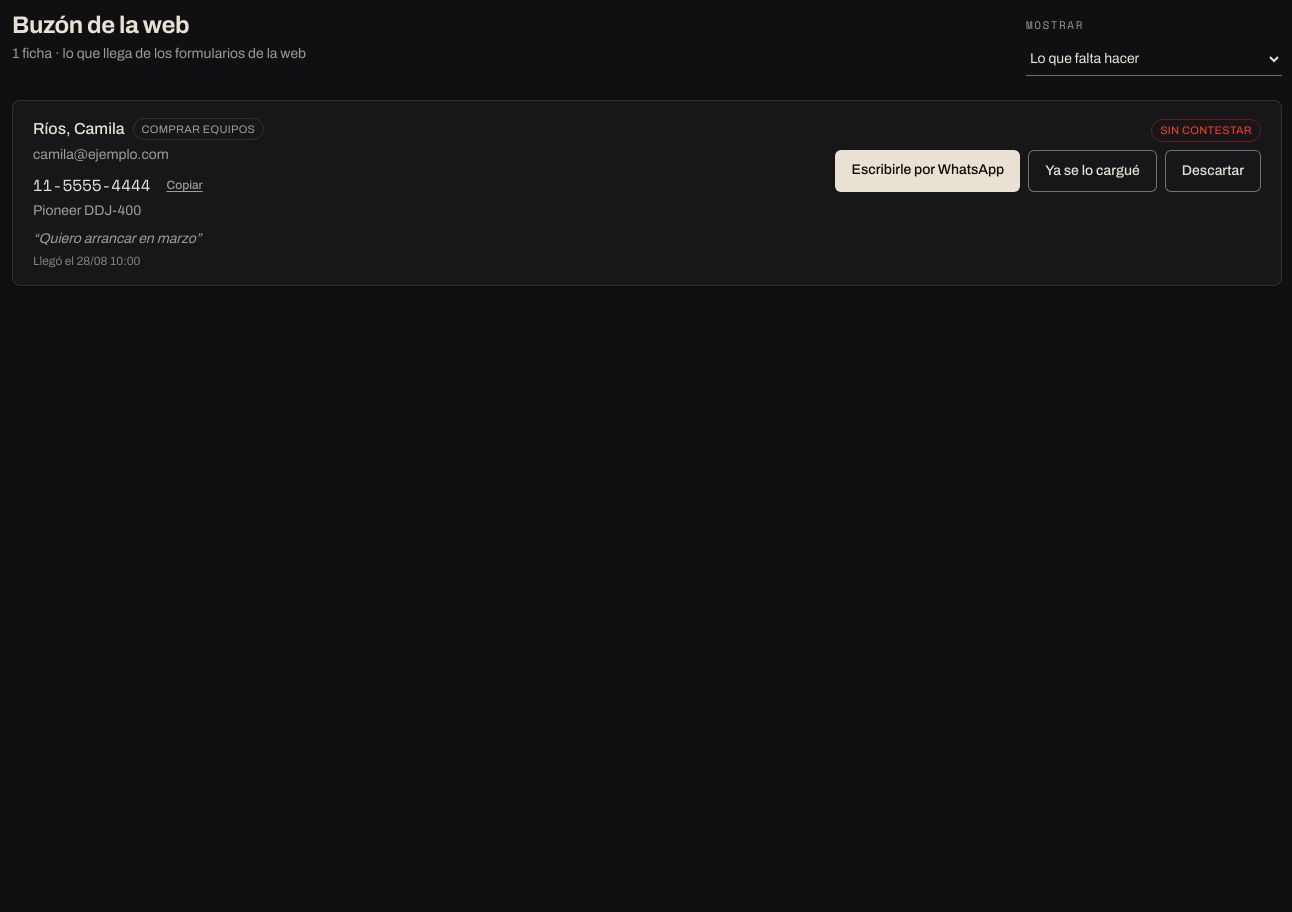
Test: convertir la ficha en cuenta › cuando la persona ya tenía cuenta lo dice, en vez de dejar el hueco
The image size is (1292, 912).
Click the button "Ya se lo cargué": (1092, 170) [1028,150,1157,192]
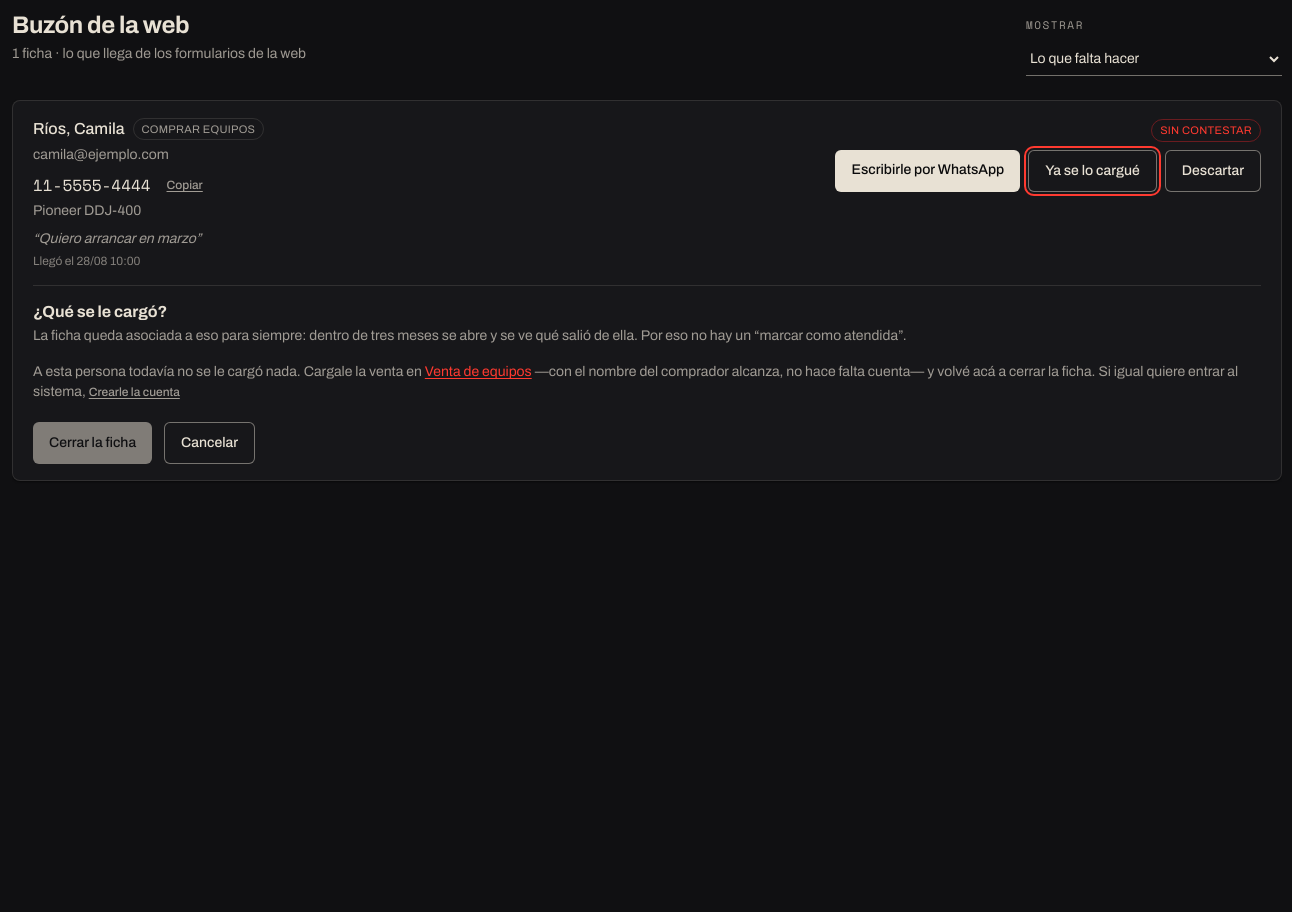
Click the button "Crearle la cuenta": (134, 392) [89,384,180,400]
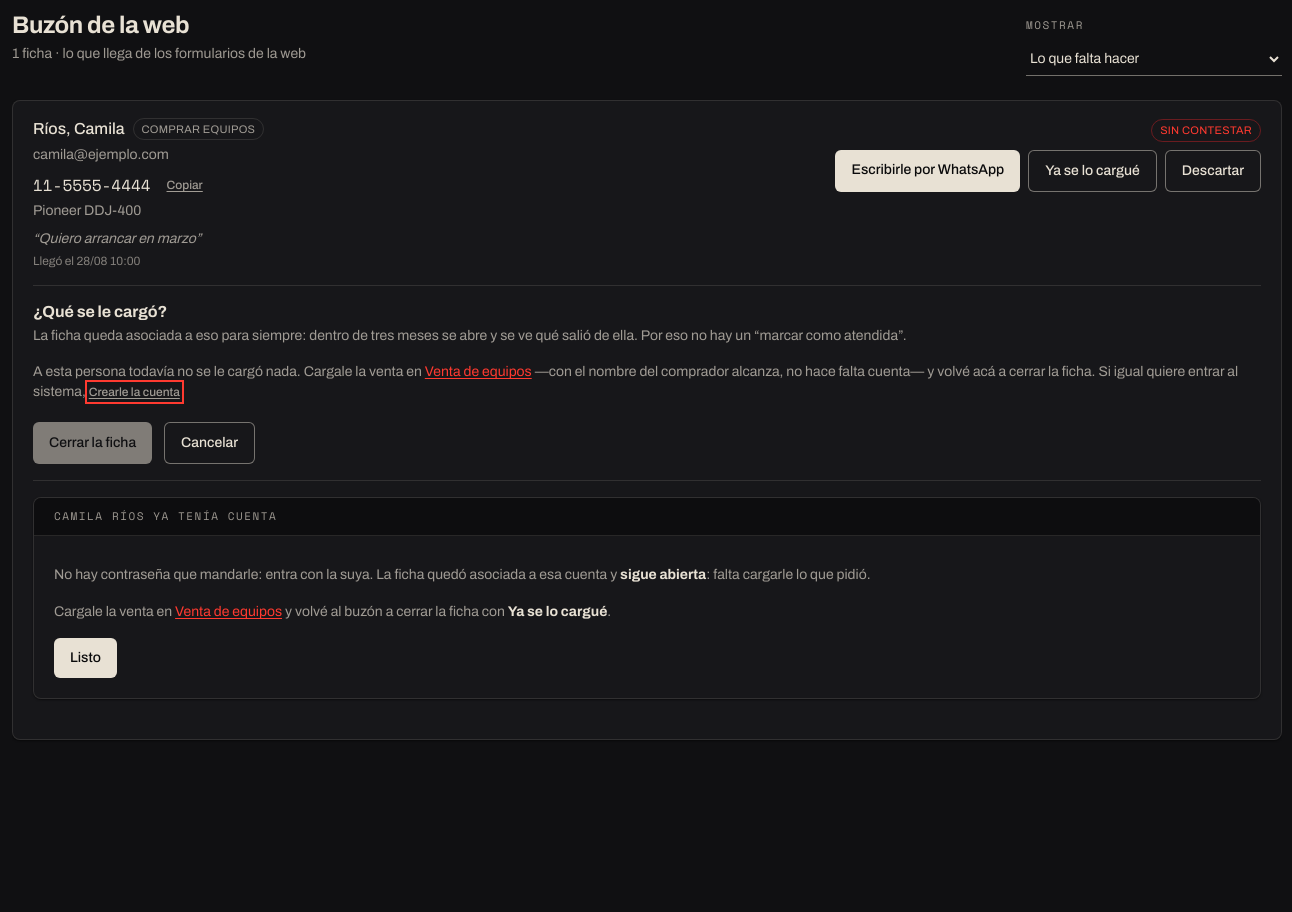
Check: the heading "Camila Ríos ya tenía cuenta" is shown, box [54,508,277,524]
Check: the text "No hay contraseña que mandarle" is shown, box [54,566,620,582]
